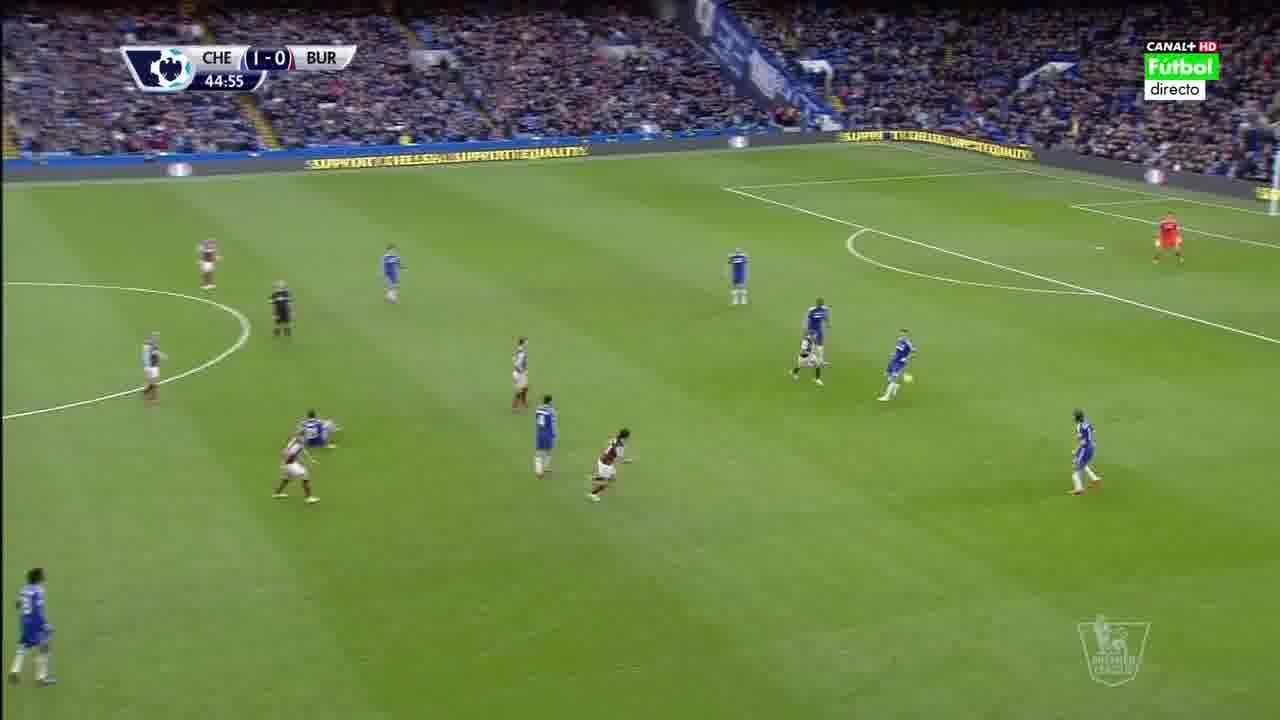football: (904, 374, 912, 385)
